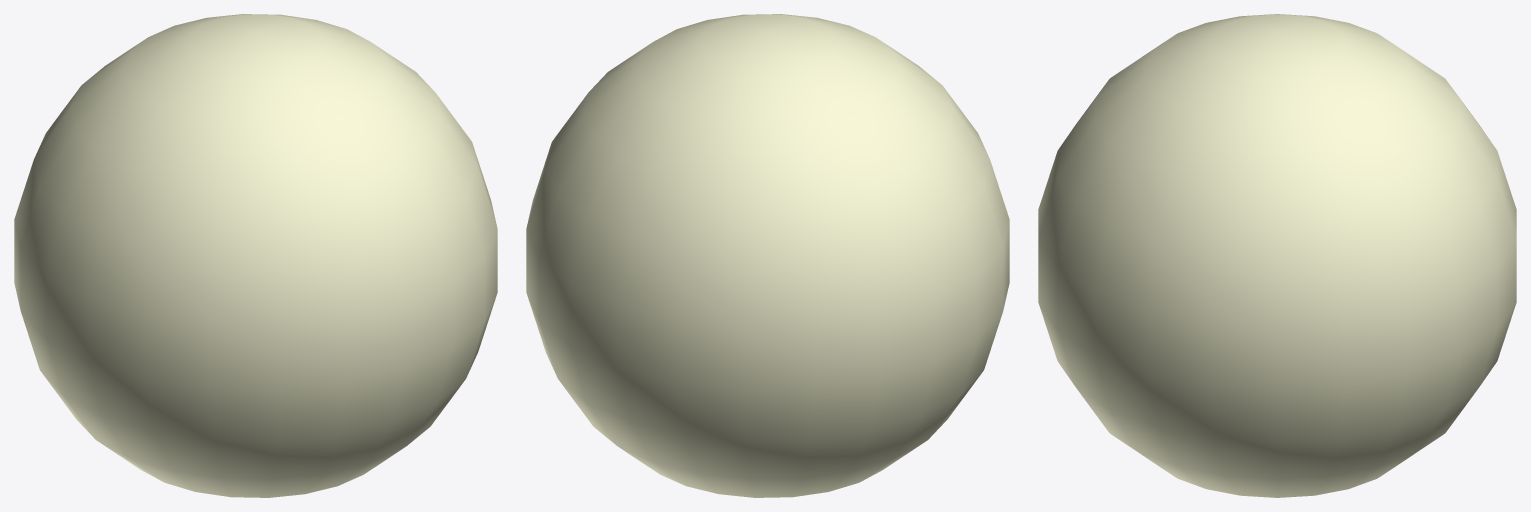
Rendered from Ball_white.FBX.
3 renders of one model, left to right at view 1: azimuth 30°, elevation 25°; view 2: azimuth 150°, elevation 25°; view 3: azimuth 270°, elevation 25°, orthographic.
Visible parts, largest first — view 1: Ball_White; view 2: Ball_White; view 3: Ball_White.
Part boxes in pixels (x1,y1,x2,y2): Ball_White: [14, 14, 497, 497]; Ball_White: [526, 14, 1009, 497]; Ball_White: [1038, 14, 1516, 497].
Bounding box in the file's own units: 5.64 × 5.7 × 5.58.
